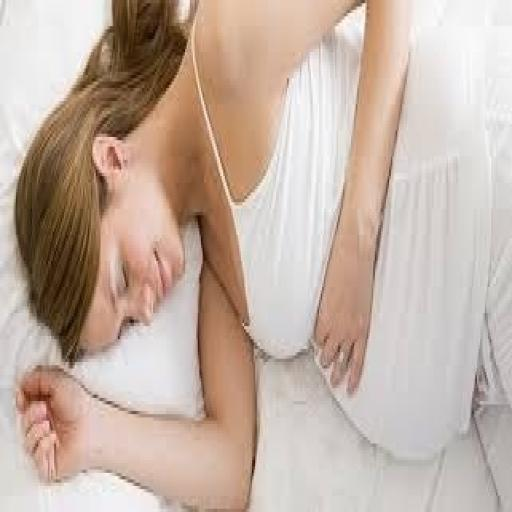sleeping: (11, 0, 500, 505)
